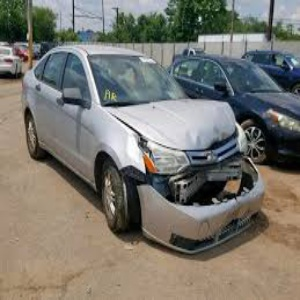bonnet: (167, 100, 240, 145)
bumper: (135, 179, 271, 256)
